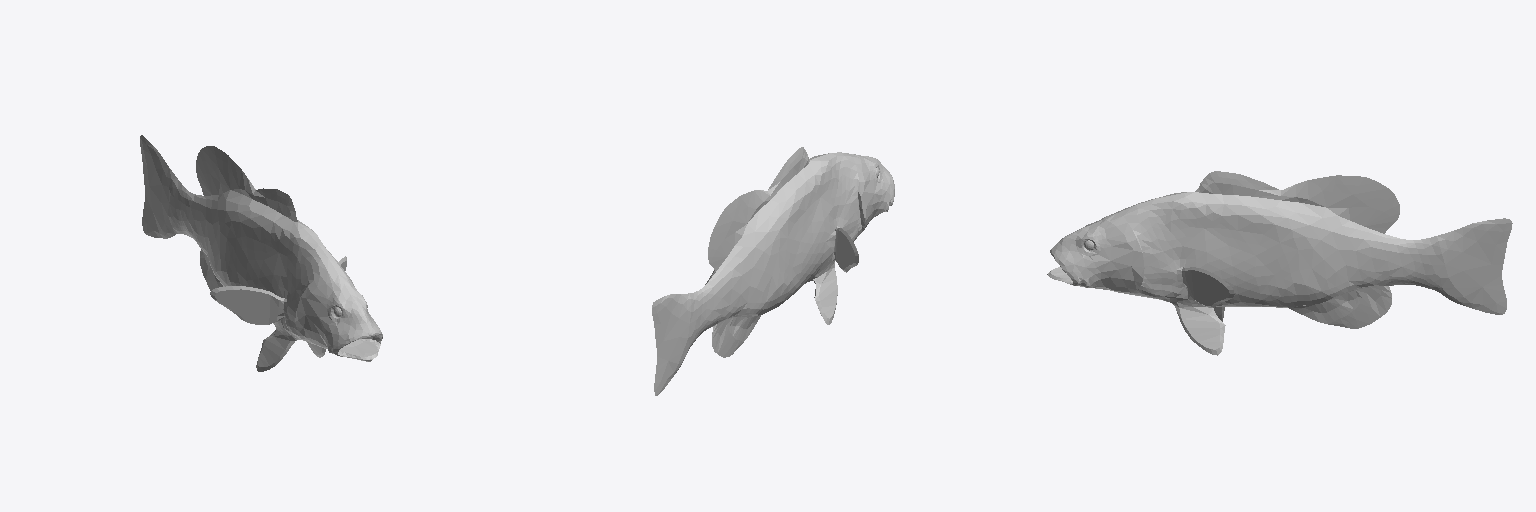
The model's file is pez.obj.
3 views of the same model, side by side, from view 1: azimuth 30°, elevation 25°; view 2: azimuth 150°, elevation 25°; view 3: azimuth 270°, elevation 25° (orthographic).
Parts seen in each view (by area): view 1: fish; view 2: fish; view 3: fish.
Part boxes in pixels (left/top/right/bottom): fish: left=140, top=135, right=382, bottom=371; fish: left=652, top=147, right=894, bottom=395; fish: left=1047, top=171, right=1512, bottom=355.
Size of the model in its own units: 0.1269 by 0.1501 by 0.3725.